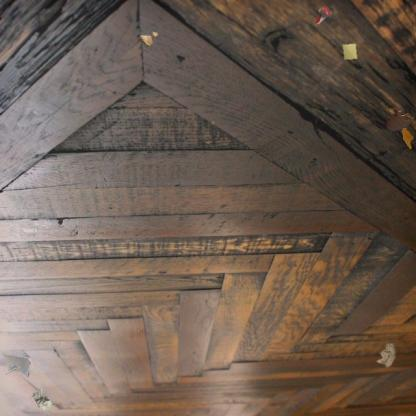dirty: (1, 352, 30, 378), (30, 386, 54, 415), (374, 341, 398, 369), (312, 4, 333, 25), (138, 32, 159, 50), (341, 42, 359, 62)
liquid: (384, 106, 416, 132), (400, 127, 415, 149)
